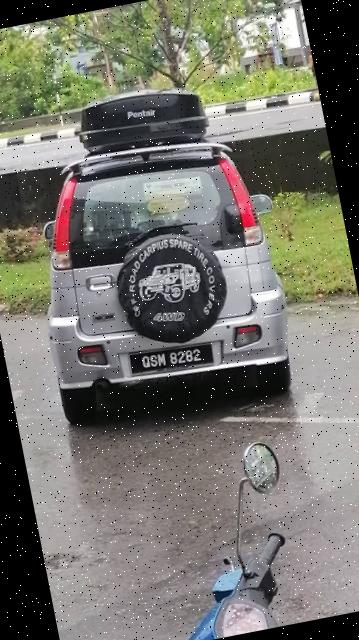License_Plate: (129, 340, 217, 382)
car: (10, 65, 297, 433)
